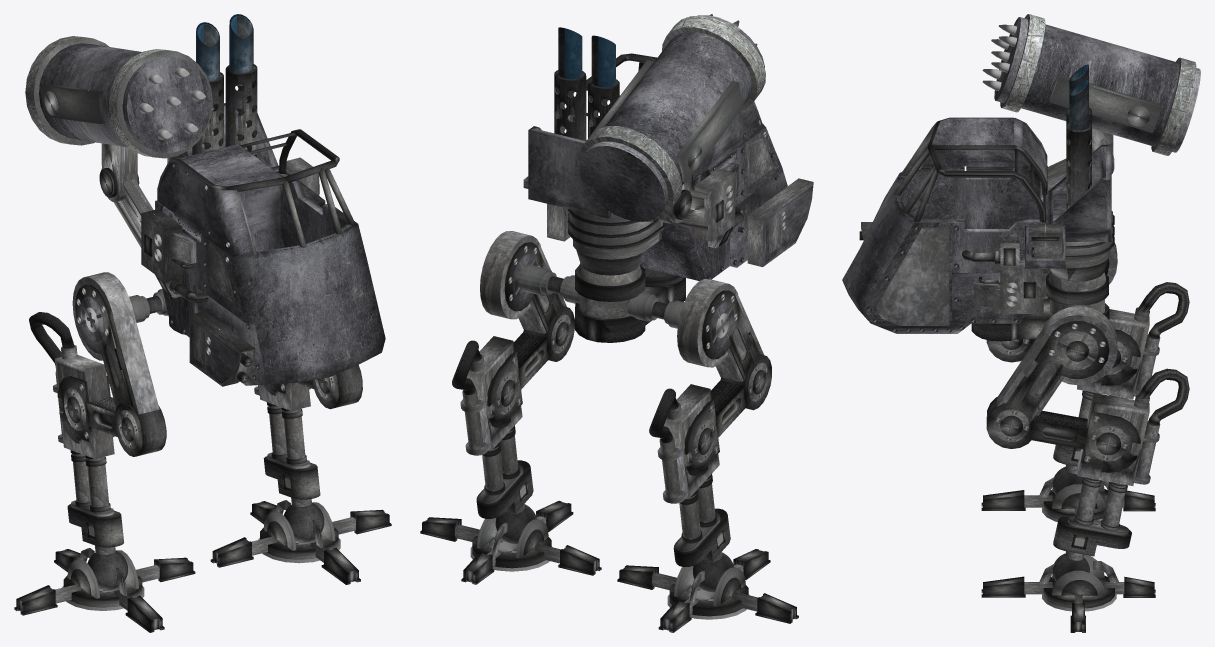
File: the_titan.fbx
3 views of the same model, side by side, from view 1: azimuth 30°, elevation 25°; view 2: azimuth 150°, elevation 25°; view 3: azimuth 270°, elevation 25° (orthographic). The views are drawn at different scales.
Parts seen in each view (by area): view 1: Titan:Titan:Titan:Titan:Titan:Titan:Titan:Cylinder52, Titan:Titan:Titan:Titan:Titan:Cylinder78, Titan:Titan:Cylinder133, Titan:Titan:Box110, Titan:Titan:Box74, Titan:Titan:Titan:Box74, Titan:Titan:Titan:Titan:Titan:Titan:Titan:Cylinder133, Titan:Titan:Box90, Titan:Titan:Titan:Titan:Titan:Titan:Titan:Box90, Titan:Cylinder77, Titan:Titan:Titan:Cylinder51; view 2: Titan:Titan:Titan:Titan:Titan:Titan:Titan:Cylinder52, Titan:Titan:Titan:Titan:Titan:Cylinder78, Titan:Titan:Titan:Titan:Titan:Titan:Titan:Cylinder133, Titan:Titan:Cylinder133, Titan:Titan:Titan:Cylinder51, Titan:Titan:Titan:Box74, Titan:Titan:Box74, Titan:Titan:Box110, Titan:Titan:Titan:Titan:Titan:Titan:Titan:Box87, Titan:Titan:Titan:Titan:Titan:Titan:Titan:Box90, Titan:Titan:Box90, Titan:Cylinder77; view 3: Titan:Titan:Titan:Titan:Titan:Titan:Titan:Cylinder52, Titan:Titan:Titan:Titan:Titan:Cylinder78, Titan:Titan:Titan:Titan:Titan:Titan:Titan:Cylinder133, Titan:Titan:Titan:Titan:Titan:Titan:Titan:Box87, Titan:Titan:Titan:Titan:Titan:Titan:Titan:Box90, Titan:Titan:Cylinder133, Titan:Titan:Titan:Box74, Titan:Titan:Box74, Titan:Titan:Titan:Cylinder51, Titan:Titan:Box90.
Part boxes in pixels (box(x1,y1,x2,y2)): Titan:Titan:Titan:Titan:Titan:Titan:Titan:Cylinder52: box(141, 14, 385, 386); Titan:Titan:Titan:Titan:Titan:Cylinder78: box(25, 36, 212, 201); Titan:Titan:Cylinder133: box(29, 312, 127, 590); Titan:Titan:Box110: box(72, 272, 159, 414); Titan:Titan:Box74: box(14, 548, 195, 632); Titan:Titan:Titan:Box74: box(210, 500, 391, 584); Titan:Titan:Titan:Titan:Titan:Titan:Titan:Cylinder133: box(254, 382, 324, 542); Titan:Titan:Box90: box(57, 376, 166, 456); Titan:Titan:Titan:Titan:Titan:Titan:Titan:Box90: box(263, 365, 362, 409); Titan:Cylinder77: box(113, 179, 153, 247); Titan:Titan:Titan:Cylinder51: box(129, 289, 185, 334); Titan:Titan:Titan:Titan:Titan:Titan:Titan:Cylinder52: box(523, 27, 813, 286); Titan:Titan:Titan:Titan:Titan:Cylinder78: box(578, 14, 765, 223); Titan:Titan:Titan:Titan:Titan:Titan:Titan:Cylinder133: box(452, 336, 536, 544); Titan:Titan:Cylinder133: box(649, 384, 733, 592); Titan:Titan:Titan:Cylinder51: box(518, 264, 685, 342); Titan:Titan:Titan:Box74: box(420, 501, 601, 584); Titan:Titan:Box74: box(617, 549, 798, 632); Titan:Titan:Box110: box(677, 279, 763, 381); Titan:Titan:Titan:Titan:Titan:Titan:Titan:Box87: box(480, 231, 566, 333); Titan:Titan:Titan:Titan:Titan:Titan:Titan:Box90: box(487, 306, 574, 428); Titan:Titan:Box90: box(684, 354, 771, 476); Titan:Cylinder77: box(659, 190, 707, 230); Titan:Titan:Titan:Titan:Titan:Titan:Titan:Cylinder52: box(842, 64, 1114, 333); Titan:Titan:Titan:Titan:Titan:Cylinder78: box(982, 14, 1200, 171); Titan:Titan:Titan:Titan:Titan:Titan:Titan:Cylinder133: box(1052, 368, 1189, 581); Titan:Titan:Titan:Titan:Titan:Titan:Titan:Box87: box(997, 306, 1117, 423); Titan:Titan:Titan:Titan:Titan:Titan:Titan:Box90: box(986, 397, 1140, 472); Titan:Titan:Cylinder133: box(1052, 282, 1189, 495); Titan:Titan:Titan:Box74: box(981, 554, 1155, 632); Titan:Titan:Box74: box(981, 477, 1155, 521); Titan:Titan:Titan:Cylinder51: box(971, 273, 1109, 341); Titan:Titan:Box90: box(986, 329, 1140, 386).
Size of the model in its own units: 9.69 by 13.95 by 9.03.
